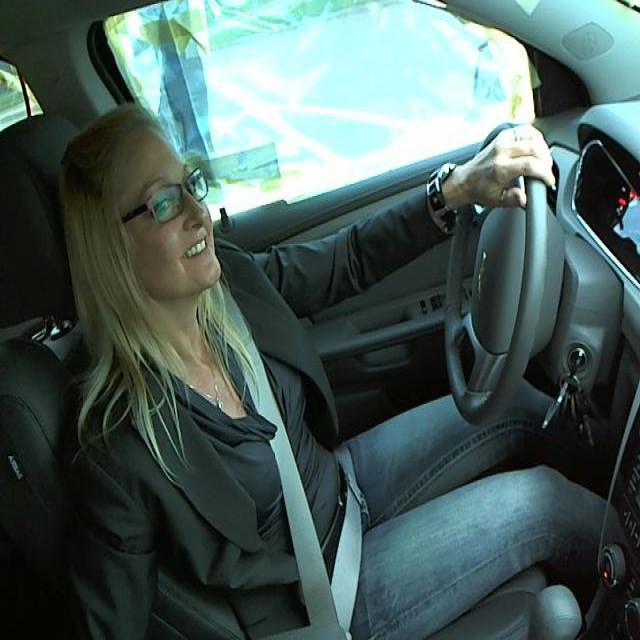seatbelt: (211, 318, 325, 638)
